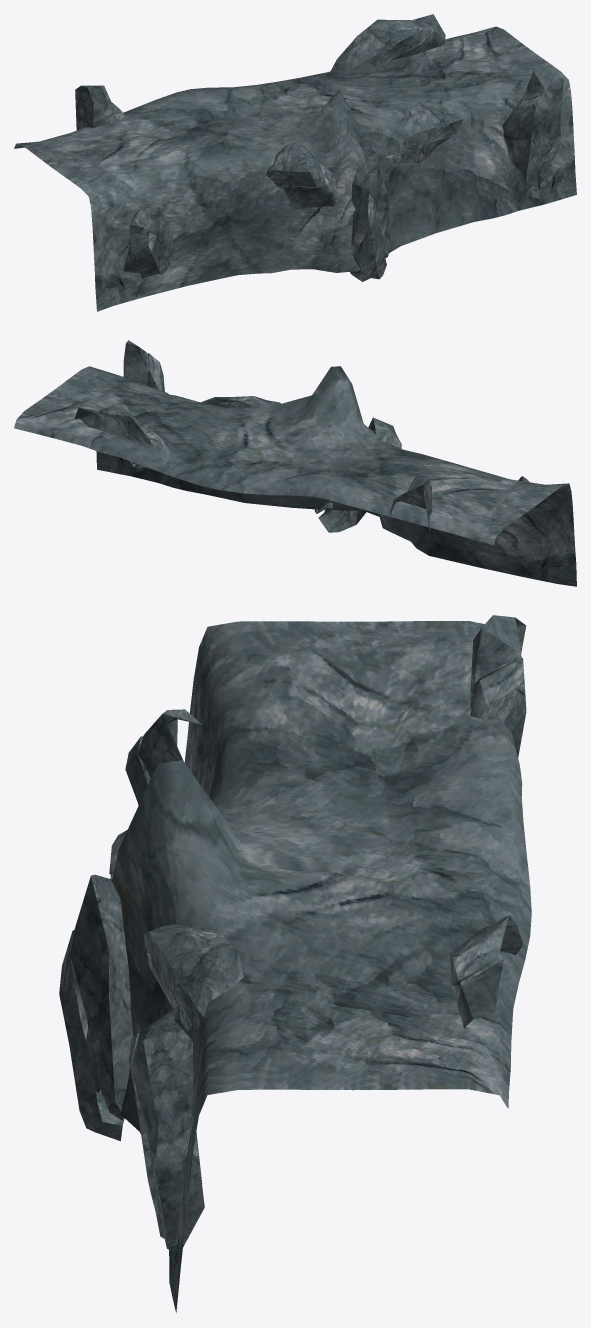
Rendered from GroundPiece1.fbx.
The picture shows the model from 3 angles, top to bottom: view 1: azimuth 30°, elevation 25°; view 2: azimuth 150°, elevation 25°; view 3: azimuth 270°, elevation 25°; orthographic projection. The views are drawn at different scales.
Parts seen in each view (by area): view 1: GroundPiece1; view 2: GroundPiece1; view 3: GroundPiece1.
Part boxes in pixels (left/top/right/bottom): GroundPiece1: left=14, top=14, right=576, bottom=311; GroundPiece1: left=14, top=340, right=576, bottom=586; GroundPiece1: left=59, top=615, right=531, bottom=1312.
Bounding box in the file's own units: 10.01 × 3.62 × 4.26.
Materials: 2 (2 with a texture image).
